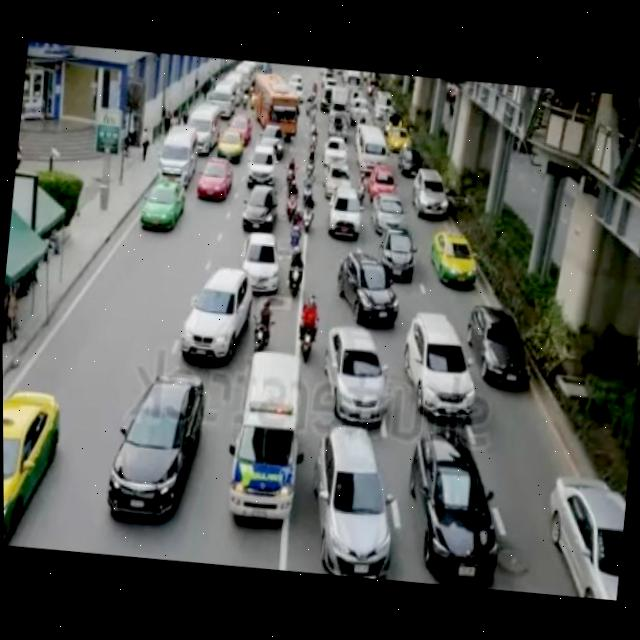emergency: (209, 383, 313, 528)
